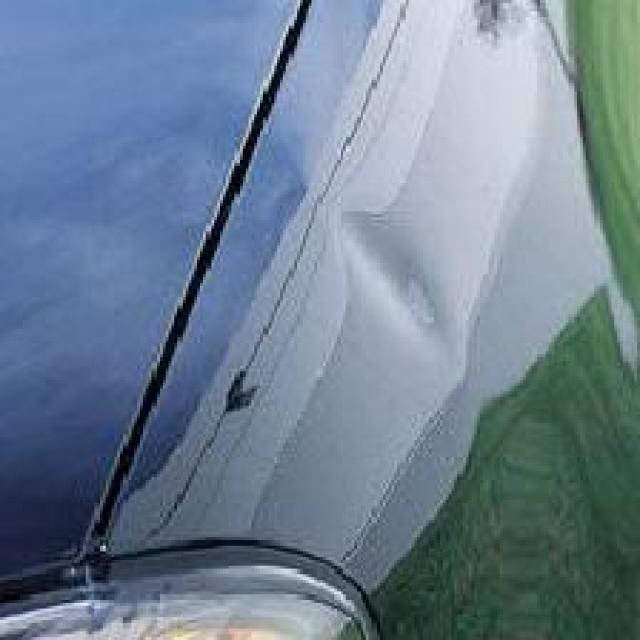damaged: (332, 208, 457, 352)
